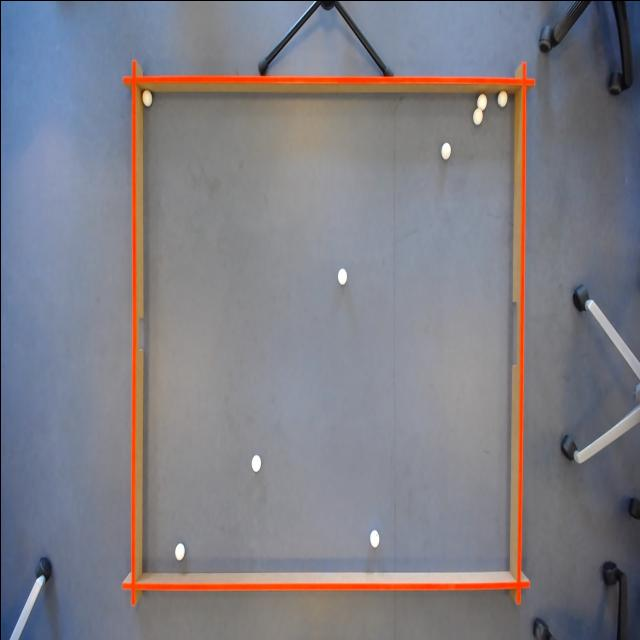white_ball: (336, 262, 350, 286), (494, 87, 508, 111), (367, 525, 381, 549), (173, 540, 186, 564), (140, 86, 152, 110), (440, 138, 452, 160), (250, 450, 260, 474), (470, 106, 482, 126), (476, 92, 488, 110)
